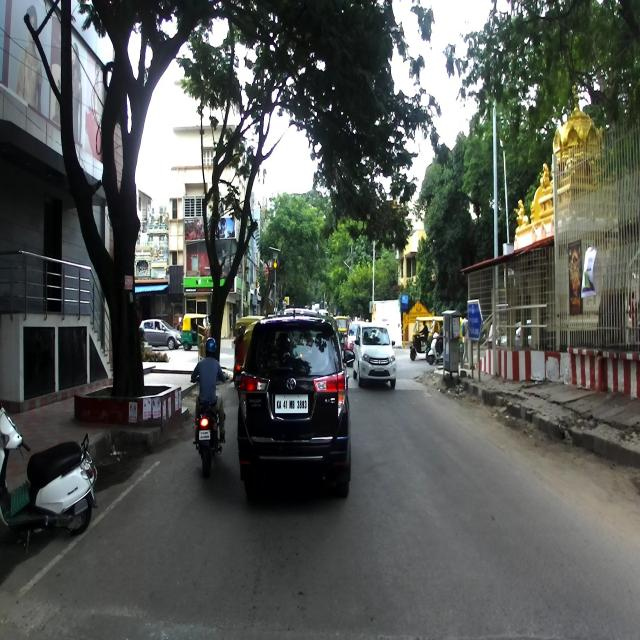car: (236, 307, 355, 503), (352, 322, 397, 389)
motorcycle: (190, 368, 228, 480)
scooter: (0, 402, 99, 555)
